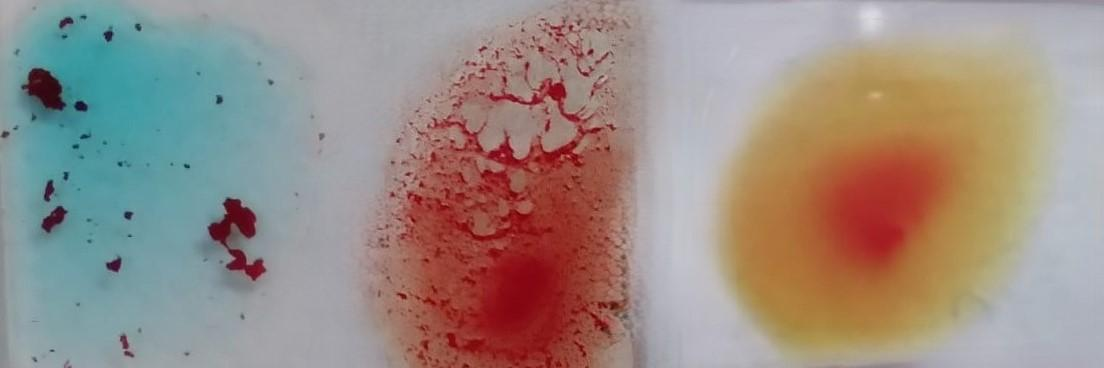A: (5, 5, 313, 368)
D: (376, 9, 634, 359)
